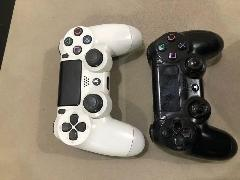electronic: (52, 23, 146, 157), (146, 30, 236, 158)
